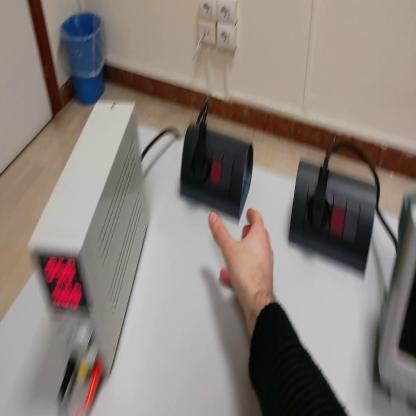hand: (207, 205, 277, 310)
oscilloscope: (377, 197, 416, 408)
power supply: (26, 99, 146, 378)
socket: (288, 161, 378, 281), (178, 126, 254, 221)
